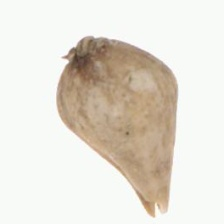L1: (59, 35, 105, 70), (134, 188, 169, 219)
L2: (55, 36, 178, 218)
